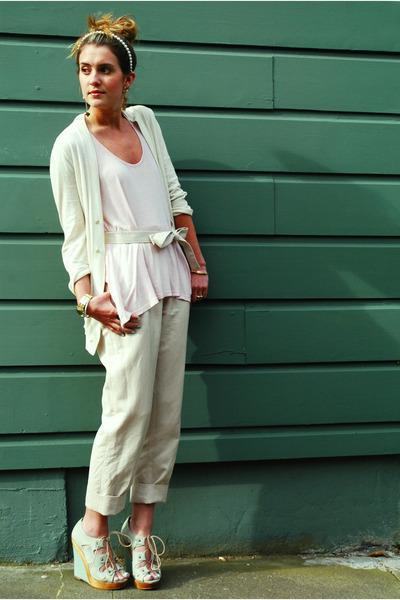long sleeve shirt: (43, 105, 215, 317)
trousers: (62, 237, 207, 517)
vest: (88, 117, 173, 304)
